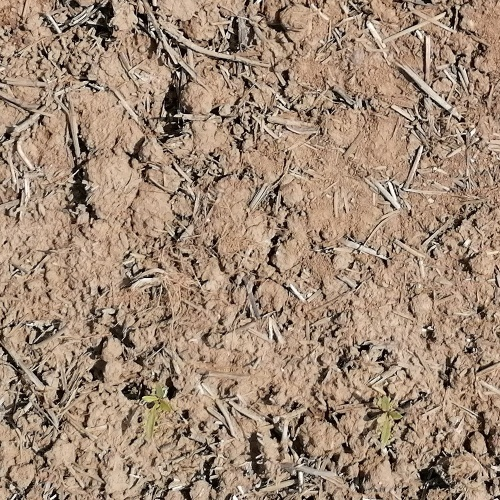beet: (138, 380, 171, 437), (374, 395, 403, 448)
